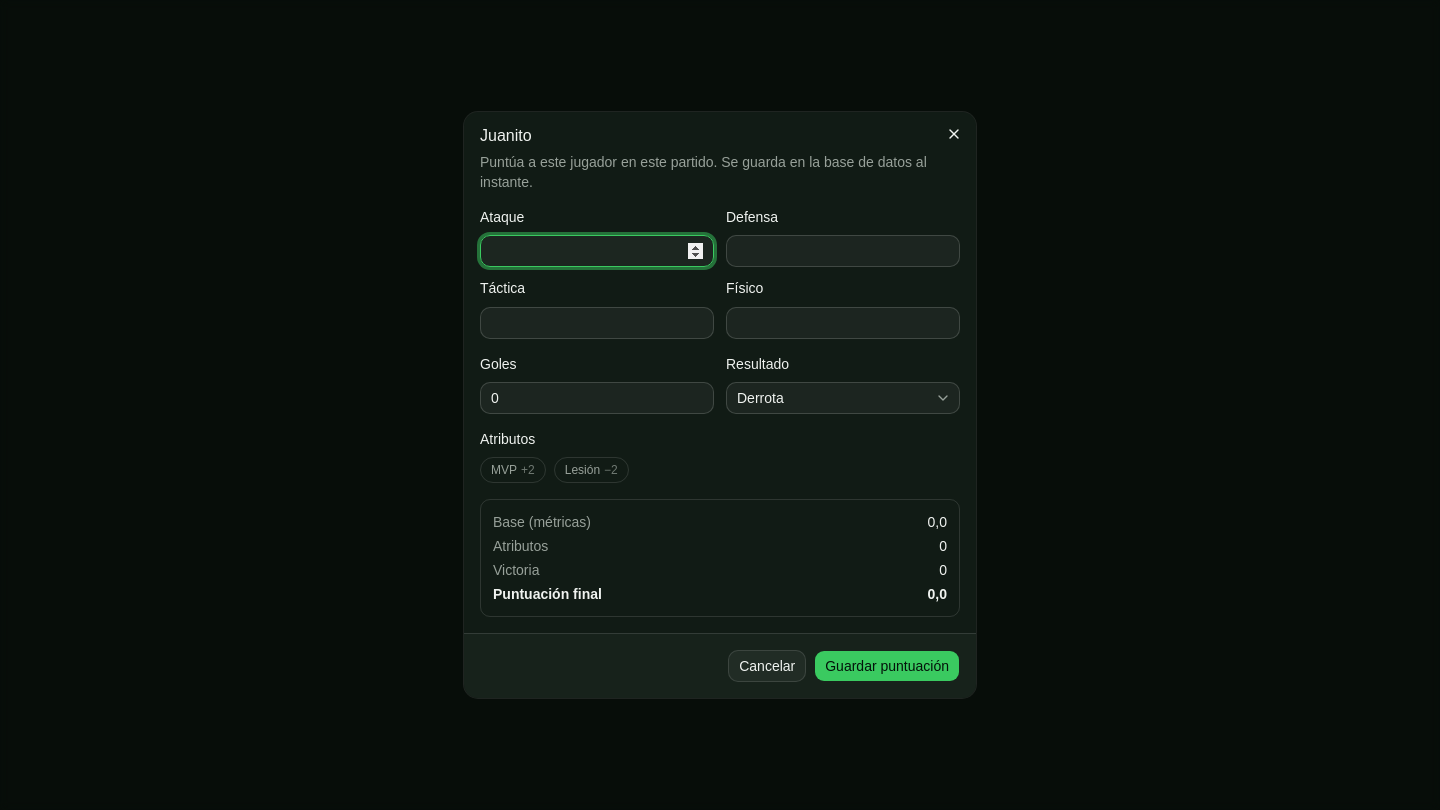
Scenario: MatchScoreDialog › refuses to save a metric left blank
Click the button with test id "score-submit". click: coordinates (887, 666)
box: [814, 650, 960, 682]
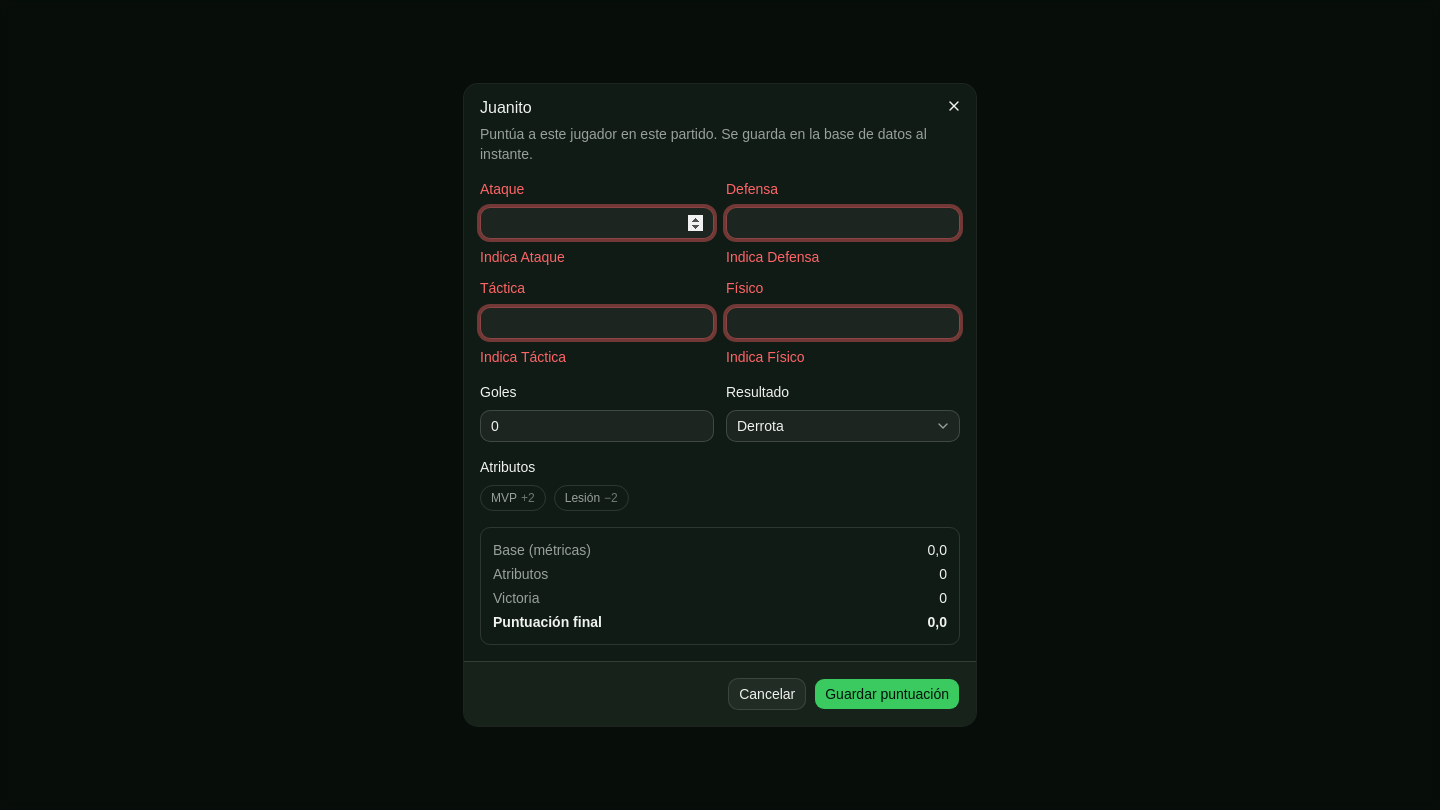
expect the text "Indica Ataque" is shown: met, box [480, 249, 565, 265]
